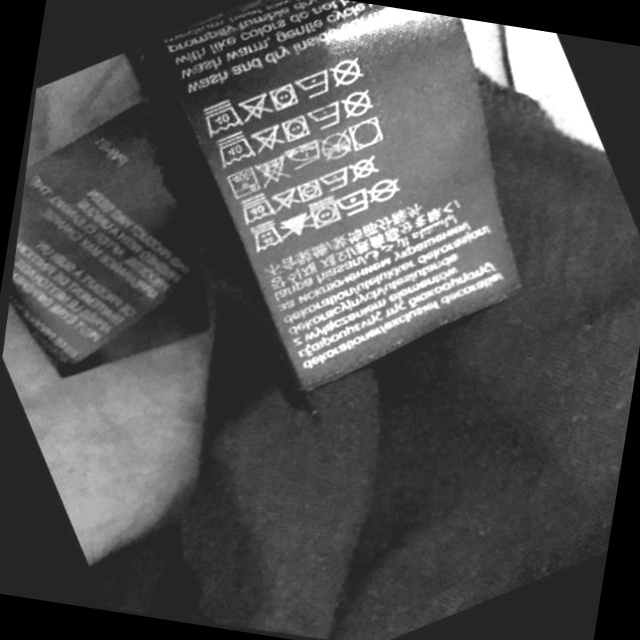40C: (201, 91, 246, 141), (217, 126, 260, 173), (244, 216, 287, 260), (237, 191, 279, 226), (226, 163, 263, 201)
DN_bleach: (251, 119, 286, 159), (254, 151, 290, 189), (280, 207, 316, 245), (237, 88, 273, 124), (271, 184, 302, 215)
DN_dry_clean: (328, 53, 368, 93), (339, 87, 379, 123), (371, 174, 407, 209), (349, 152, 384, 187)
iron_low: (296, 63, 336, 105), (282, 133, 325, 172), (305, 96, 348, 134), (335, 185, 375, 220), (317, 161, 353, 193)
tumble_dry_medium: (306, 193, 347, 234), (266, 80, 306, 116), (277, 113, 315, 146), (296, 177, 327, 205)
tumble_dry_normal: (348, 113, 391, 157)
